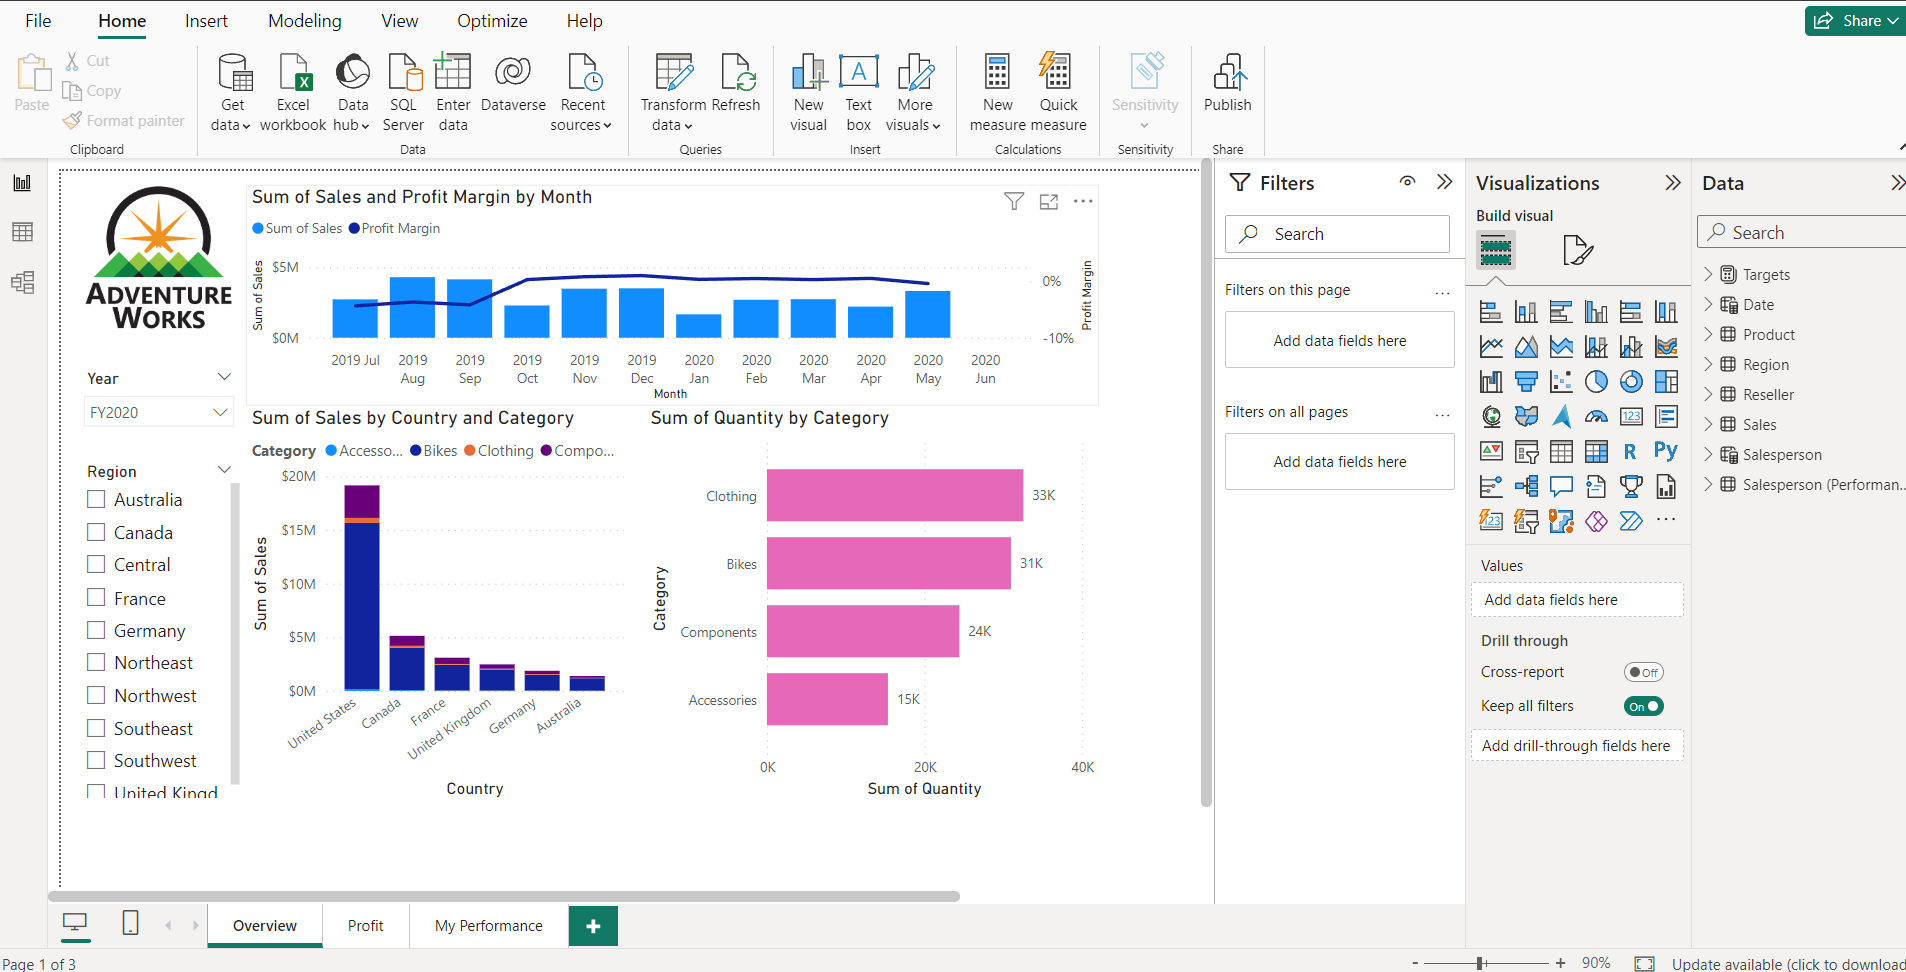

What the dashboard file says about the page in this screenshot:
{"tool":"powerbi","page":{"name":"Overview","canvas":[1280,720],"ordinal":0},"visuals":[{"type":"image","box":[10,0,154,154],"z":0},{"type":"slicer","fields":{"Values":["Date.Year"]},"box":[10,171,154,75],"z":1},{"type":"slicer","fields":{"Values":["Region.Region"]},"box":[10,253,154,309],"z":2},{"type":"lineStackedColumnComboChart","fields":{"Category":["Date.Month"],"Y":["Sum(Sales.Sales)"],"Y2":["Sales.Profit Margin"]},"box":[164,12,759,197],"z":3},{"type":"columnChart","fields":{"Category":["Region.Country"],"Y":["Sum(Sales.Sales)"],"Series":["Product.Category"]},"box":[164,209,341,353],"z":4},{"type":"barChart","fields":{"Category":["Product.Category"],"Y":["Sum(Sales.Quantity)"]},"box":[519,209,404,353],"z":5}]}

Visuals, with their boxes on the page's 1280x720 design canvas (x1, y1, x2, y2). These are canvas units, not pixel positions in the 1906x972 screenshot, which may show the page scaled, cropped or inside an application window:
image: region(10, 0, 164, 154)
slicer - Date.Year: region(10, 171, 164, 246)
slicer - Region.Region: region(10, 253, 164, 562)
lineStackedColumnComboChart - Date.Month x Sum(Sales.Sales): region(164, 12, 923, 209)
columnChart - Region.Country x Sum(Sales.Sales): region(164, 209, 505, 562)
barChart - Product.Category x Sum(Sales.Quantity): region(519, 209, 923, 562)
